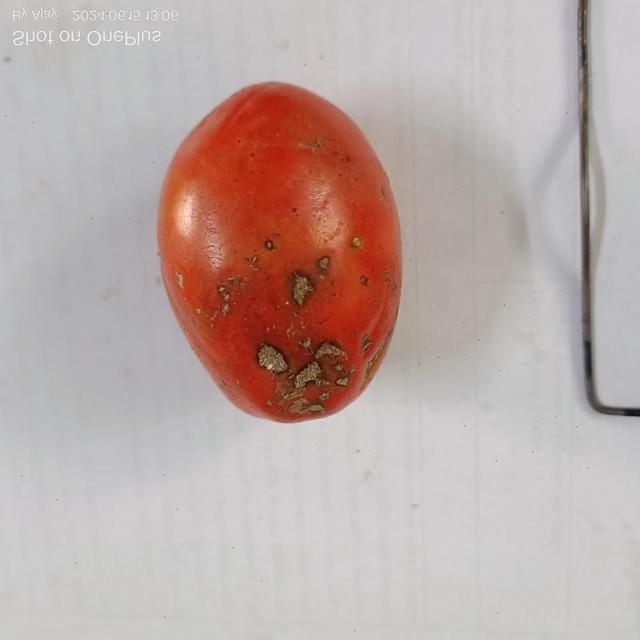Bacterial Spot Fruit: (147, 156, 244, 279)
